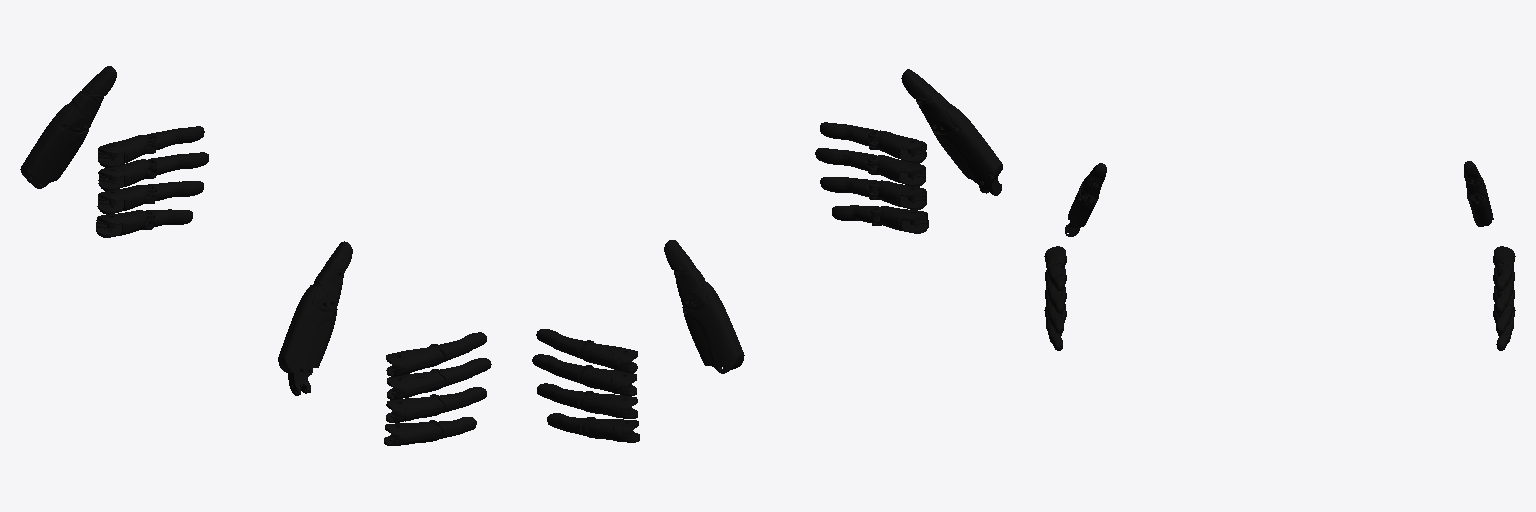
--- What the picture shows (computed from the rendered views, not written in the file) ---
The picture shows the robot from 3 angles, left to right: view 1: azimuth 30°, elevation 25°; view 2: azimuth 150°, elevation 25°; view 3: azimuth 270°, elevation 25°; orthographic projection.
Model h1 with 53 links and 52 joints (39 revolute, 13 fixed), rooted at pelvis, posed all joints at 0.
Visible links, largest first — view 1: R_thumb_proximal, L_thumb_proximal, R_index_proximal, R_middle_proximal, L_index_proximal, R_ring_proximal, L_middle_proximal, L_ring_proximal, R_pinky_proximal, L_pinky_proximal, R_thumb_intermediate, L_thumb_intermediate (+10 smaller); view 2: L_thumb_proximal, R_thumb_proximal, L_index_proximal, L_middle_proximal, R_index_proximal, L_ring_proximal, R_middle_proximal, L_pinky_proximal, R_ring_proximal, R_pinky_proximal, L_thumb_intermediate, R_thumb_intermediate (+10 smaller); view 3: R_thumb_proximal, L_thumb_proximal.
Boxes of the visible links, box(x1,y1,x2,y2) form: R_thumb_proximal: box(278, 285, 337, 375); L_thumb_proximal: box(20, 104, 88, 188); R_index_proximal: box(386, 344, 444, 376); R_middle_proximal: box(387, 369, 444, 399); L_index_proximal: box(98, 135, 155, 167); R_ring_proximal: box(386, 394, 443, 422); L_middle_proximal: box(98, 159, 155, 190); L_ring_proximal: box(97, 185, 155, 214); R_pinky_proximal: box(384, 420, 441, 445); L_pinky_proximal: box(96, 210, 153, 237); R_thumb_intermediate: box(312, 269, 343, 311); L_thumb_intermediate: box(67, 88, 103, 132); L_thumb_proximal: box(682, 282, 744, 373); R_thumb_proximal: box(932, 104, 1002, 186); L_index_proximal: box(579, 340, 637, 372); L_middle_proximal: box(579, 365, 636, 395); R_index_proximal: box(869, 130, 926, 163); L_ring_proximal: box(580, 391, 637, 418); R_middle_proximal: box(868, 155, 925, 186); L_pinky_proximal: box(582, 417, 639, 442); R_ring_proximal: box(869, 180, 926, 209); R_pinky_proximal: box(870, 206, 928, 233); L_thumb_intermediate: box(674, 266, 706, 309); R_thumb_intermediate: box(916, 90, 953, 133); R_thumb_proximal: box(1068, 176, 1098, 226); L_thumb_proximal: box(1467, 178, 1493, 226).
Size in the robot's own frame: 0.169 by 0.4501 by 0.1603 metres.
23 mesh visuals loaded from 42 distinct referenced files (23 binary STL); not drawn: 20 (reference not matched to a file when rendering).

URDF robot description (h1):
<robot
  name="h1">

  <mujoco>
    <compiler meshdir="../meshes" discardvisual="false" />
  </mujoco>


  <!-- [CAUTION] uncomment when convert to mujoco -->
  <!-- <link name="world"></link>
  <joint name="floating_base_joint" type="floating">
    <parent link="world" />
    <child link="pelvis" />
  </joint> -->

  <link
    name="pelvis">
    <inertial>
      <origin
        xyz="-0.0002 4E-05 -0.04522"
        rpy="0 0 0" />
      <mass
        value="5.39" />
      <inertia
        ixx="0.044582"
        ixy="8.7034E-05"
        ixz="-1.9893E-05"
        iyy="0.0082464"
        iyz="4.021E-06"
        izz="0.049021" />
    </inertial>
    <visual>
      <origin
        xyz="0 0 0"
        rpy="0 0 0" />
      <geometry>
        <mesh
          filename="../meshes/pelvis.STL" />
      </geometry>
      <material
        name="">
        <color
          rgba="0.1 0.1 0.1 1" />
      </material>
    </visual>
    <collision>
      <origin xyz="0 0 0" rpy="0 0 0" />
      <geometry>
        <sphere radius="0.05"/>
      </geometry>
    </collision>
  </link>
  
  <!--  -->
  <!--  -->
  <!--  -->
  <link
    name="torso_link">
    <inertial>
      <origin
        xyz="0.000489 0.002797 0.20484"
        rpy="0 0 0" />
      <mass
        value="17.789" />
      <inertia
        ixx="0.4873"
        ixy="-0.00053763"
        ixz="0.0020276"
        iyy="0.40963"
        iyz="-0.00074582"
        izz="0.12785" />
    </inertial>
    <visual>
      <origin
        xyz="0 0 0"
        rpy="0 0 0" />
      <geometry>
        <mesh
          filename="../meshes/torso_link.STL" />
      </geometry>
      <material
        name="">
        <color
          rgba="0.1 0.1 0.1 1" />
      </material>
    </visual>
    <collision>
      <origin xyz="0 0 0.15" rpy="0 0 0" />
      <geometry>
        <box size="0.08 0.16 0.1"/>
      </geometry>
    </collision>
  </link>
  <joint
    name="torso_joint"
    type="revolute">
    <origin
      xyz="0 0 0"
      rpy="0 0 0" />
    <parent
      link="pelvis" />
    <child
      link="torso_link" />
    <axis
      xyz="0 0 1" />
    <limit
      lower="-2.35"
      upper="2.35"
      effort="200"
      velocity="23" />
  </joint>
  <link
    name="left_shoulder_pitch_link">
    <inertial>
      <origin
        xyz="0.005045 0.053657 -0.015715"
        rpy="0 0 0" />
      <mass
        value="1.033" />
      <inertia
        ixx="0.0012985"
        ixy="-1.7333E-05"
        ixz="8.683E-06"
        iyy="0.00087279"
        iyz="3.9656E-05"
        izz="0.00097338" />
    </inertial>
    <visual>
      <origin
        xyz="0 0 0"
        rpy="0 0 0" />
      <geometry>
        <mesh
          filename="../meshes/left_shoulder_pitch_link.STL" />
      </geometry>
      <material
        name="">
        <color
          rgba="0.1 0.1 0.1 1" />
      </material>
    </visual>
    <collision>
      <origin xyz="0 -0.05  0" rpy="1.5707963267948966192313216916398 0 0" />
      <geometry>
        <cylinder radius="0.03" length="0.04"/>
      </geometry>
    </collision>
  </link>
  <joint
    name="left_shoulder_pitch_joint"
    type="revolute">
    <origin
      xyz="0.0055 0.15535 0.42999"
      rpy="0.43633 0 0" />
    <parent
      link="torso_link" />
    <child
      link="left_shoulder_pitch_link" />
    <axis
      xyz="0 1 0" />
    <limit
      lower="-2.44"
      upper="1.44"
      effort="40"
      velocity="9" />
  </joint>
  <link
    name="left_shoulder_roll_link">
    <inertial>
      <origin
        xyz="0.000679 0.00115 -0.094076"
        rpy="0 0 0" />
      <mass
        value="0.793" />
      <inertia
        ixx="0.0015742"
        ixy="2.298E-06"
        ixz="-7.2265E-05"
        iyy="0.0016973"
        iyz="-6.3691E-05"
        izz="0.0010183" />
    </inertial>
    <visual>
      <origin
        xyz="0 0 0"
        rpy="0 0 0" />
      <geometry>
        <mesh
          filename="../meshes/left_shoulder_roll_link.STL" />
      </geometry>
      <material
        name="">
        <color
          rgba="0.1 0.1 0.1 1" />
      </material>
    </visual>
    <collision>
      <origin xyz="0 0 -0.04" rpy="0 0 0" />
      <geometry>
        <cylinder radius="0.04" length="0.01"/>
      </geometry>
    </collision>
  </link>
  <joint
    name="left_shoulder_roll_joint"
    type="revolute">
    <origin
      xyz="-0.0055 0.0565 -0.0165"
      rpy="-0.43633 0 0" />
    <parent
      link="left_shoulder_pitch_link" />
    <child
      link="left_shoulder_roll_link" />
    <axis
      xyz="1 0 0" />
    <limit
      lower="-0.17"
      upper="3.11"
      effort="40"
      velocity="9" />
  </joint>
  <link
    name="left_shoulder_yaw_link">
    <inertial>
      <origin
        xyz="0.01365 0.002767 -0.16266"
        rpy="0 0 0" />
      <mass
        value="0.839" />
      <inertia
        ixx="0.003664"
        ixy="-1.0671E-05"
        ixz="0.00034733"
        iyy="0.0040789"
        iyz="7.0213E-05"
        izz="0.00066383" />
    </inertial>
    <visual>
      <origin
        xyz="0 0 0"
        rpy="0 0 0" />
      <geometry>
        <mesh
          filename="../meshes/left_shoulder_yaw_link.STL" />
      </geometry>
      <material
        name="">
        <color
          rgba="0.1 0.1 0.1 1" />
      </material>
    </visual>
    <collision>
      <origin xyz="0 0 -0.11" rpy="0 0 0" />
      <geometry>
        <cylinder radius="0.04" length="0.01"/>
      </geometry>
    </collision>
  </link>
  <joint
    name="left_shoulder_yaw_joint"
    type="revolute">
    <origin
      xyz="0 0 -0.1343"
      rpy="0 0 0" />
    <parent
      link="left_shoulder_roll_link" />
    <child
      link="left_shoulder_yaw_link" />
    <axis
      xyz="0 0 1" />
    <limit
      lower="-1.3"
      upper="1.3"
      effort="18"
      velocity="20" />
  </joint>
  <link
    name="left_elbow_pitch_link">
    <inertial>
      <origin
        xyz="0.075854 0.0002 -0.013485"
        rpy="0 0 0" />
      <mass
        value="0.676" />
      <inertia
        ixx="0.000314529"
        ixy="-0.000011375"
        ixz="0.000084762"
        iyy="0.000890865"
        iyz="0.000000578"
        izz="0.000906729" />
    </inertial>
    <visual>
      <origin
        xyz="0 0 0"
        rpy="0 0 0" />
      <geometry>
        <mesh
          filename="../meshes/left_elbow_pitch_link.STL" />
      </geometry>
      <material
        name="">
        <color
          rgba="0.1 0.1 0.1 1" />
      </material>
    </visual>
    <collision>
      <geometry>
        <mesh
          filename="../meshes/left_elbow_pitch_link.STL" />
      </geometry>
    </collision>
  </link>
  <joint
    name="left_elbow_pitch_joint"
    type="revolute">
    <origin
      xyz="0.0185 0 -0.198"
      rpy="0 0 0" />
    <parent
      link="left_shoulder_yaw_link" />
    <child
      link="left_elbow_pitch_link" />
    <axis
      xyz="0 1 0" />
    <limit
      lower="-1.25"
      upper="1.57"
      effort="18"
      velocity="20" />
  </joint>
  <!--  -->
  <link
    name="left_elbow_roll_link">
    <inertial>
      <origin
        xyz="0.035281 -0.002320 0.000337"
        rpy="0 0 0" />
      <mass
        value="0.683" />
      <inertia
        ixx="0.000313275"
        ixy="0.000016521"
        ixz="-0.000002501"
        iyy="0.000310412"
        iyz="0.000005435"
        izz="0.000345998" />
    </inertial>
    <visual>
      <origin
        xyz="0 0 0"
        rpy="0 0 0" />
      <geometry>
        <mesh
          filename="../meshes/left_elbow_roll_link.STL" />
      </geometry>
      <material
        name="">
        <color
          rgba="0.1 0.1 0.1 1" />
      </material>
    </visual>
    <collision>
      <geometry>
        <mesh
          filename="../meshes/left_elbow_roll_link.STL" />
      </geometry>
    </collision>
  </link>
  <joint
    name="left_elbow_roll_joint"
    type="revolute">
    <origin
      xyz="0.121 0 -0.015"
      rpy="0 0 0" />
    <parent
      link="left_elbow_pitch_link" />
    <child
      link="left_elbow_roll_link" />
    <axis
      xyz="1 0 0" />
    <limit
      lower="-1.57"
      upper="1.57"
      effort="19"
      velocity="31.4" />
  </joint>

  <link
    name="left_wrist_pitch_link">
    <inertial>
      <origin
        xyz="0.020395 0.000036 -0.002973"
        rpy="0 0 0" />
      <mass
        value="0.484" />
      <inertia
        ixx="0.000071364"
        ixy="0.000000308"
        ixz="0.000001485"
        iyy="0.000069915"
        iyz="-0.000000088"
        izz="0.000070702" />
    </inertial>
    <visual>
      <origin
        xyz="0 0 0"
        rpy="0 0 0" />
      <geometry>
        <mesh
          filename="../meshes/left_wrist_pitch_link.STL" />
      </geometry>
      <material
        name="">
        <color
          rgba="0.1 0.1 0.1 1" />
      </material>
    </visual>
    <collision>
      <geometry>
        <mesh
          filename="../meshes/left_wrist_pitch_link.STL" />
      </geometry>
    </collision>
  </link>
  <joint
    name="left_wrist_pitch_joint"
    type="revolute">
    <origin
      xyz="0.085 0 0"
      rpy="0 0 0" />
    <parent
      link="left_elbow_roll_link" />
    <child
      link="left_wrist_pitch_link" />
    <axis
      xyz="0 1 0" />
    <limit
      lower="-0.471"
      upper="0.349"
      effort="19"
      velocity="31.4" />
  </joint>
  <!--  -->
  <link
    name="left_wrist_yaw_link">
    <inertial>
      <origin
        xyz="0.026090 0 0"
        rpy="0 0 0" />
      <mass
        value="0.086" />
      <inertia
        ixx="0.000073879"
        ixy="0"
        ixz="0"
        iyy="0.000068528"
        iyz="0"
        izz="0.000041945" />
    </inertial>
    <visual>
      <origin
        xyz="0 0 0"
        rpy="0 0 0" />
      <geometry>
        <mesh
          filename="../meshes/wrist_yaw_link.STL" />
      </geometry>
      <material
        name="">
        <color
          rgba="0.1 0.1 0.1 1" />
      </material>
    </visual>
    <collision>
      <origin
        xyz="0 0 0"
        rpy="0 0 0" />
      <geometry>
        <mesh
          filename="../meshes/wrist_yaw_link.STL" />
      </geometry>
    </collision>
  </link>
  <joint
    name="left_wrist_yaw_joint"
    type="revolute">
    <origin
      xyz="0.020 0 0"
      rpy="0 0 0" />
    <parent
      link="left_wrist_pitch_link" />
    <child
      link="left_wrist_yaw_link" />
    <axis
      xyz="0 0 1" />
    <limit
      lower="-1.012"
      upper="1.012"
      effort="19"
      velocity="31.4" />
  </joint>
    <joint 
      name="L_base_link_joint" 
      type="fixed">
      <origin
      xyz="0.0365 0 0"
      rpy="0 0 1.5707963267948966192313216916398" />
      <parent link="left_wrist_yaw_link"/>
      <child link="L_hand_base_link"/>
    </joint>

    <link name="L_hand_base_link">
      <inertial>
        <origin
          xyz="-0.002551 -0.066047 -0.0019357"
          rpy="0 0 0" />
        <mass
          value="0.14143" />
        <inertia
          ixx="0.0001234"
          ixy="2.1995E-06"
          ixz="-1.7694E-06"
          iyy="8.3835E-05"
          iyz="1.5968E-06"
          izz="7.7231E-05" />
      </inertial>
      <visual>
        <origin
          xyz="0 0 0"
          rpy="0 0 0" />
        <geometry>
          <mesh filename="../meshes/L_hand_base_link.STL" />
        </geometry>
        <material name="">
          <color rgba="0.1 0.1 0.1 1" />
        </material>
      </visual>
      <collision>
      <origin xyz="0 -0.0136 0" rpy="1.57079 0 0"/>
      <geometry>
        <cylinder length="0.0278" radius="0.028"/>
      </geometry>
    </collision>
    <collision>
      <origin xyz="-0.0032 -0.038 0" rpy="0 0 0"/>
      <geometry>
        <box size="0.0391 0.0202 0.0574"/>
      </geometry>
    </collision>
    <collision>
      <origin xyz="-0.0032 -0.0682 0" rpy="0 0 0"/>
      <geometry>
        <box size="0.0391 0.04 0.0814"/>
      </geometry>
    </collision>
    <collision>
      <origin xyz="0 -0.1081 0" rpy="0 0 0"/>
      <geometry>
        <box size="0.0322 0.04 0.0814"/>
      </geometry>
    </collision>
    <collision>
      <origin xyz="-0.0016 -0.1340 -0.0309" rpy="0 0 0"/>
      <geometry>
        <box size="0.0125 0.0111 0.0089"/>
      </geometry>
    </collision>
    <collision>
      <origin xyz="-0.0016 -0.1340 -0.0118" rpy="0 0 0"/>
      <geometry>
        <box size="0.0125 0.0111 0.0089"/>
      </geometry>
    </collision>
    <collision>
      <origin xyz="-0.0016 -0.1340 0.0070" rpy="0 0 0"/>
      <geometry>
        <box size="0.0125 0.0111 0.0089"/>
      </geometry>
    </collision>
    <collision>
      <origin xyz="-0.0016 -0.1340 0.0262" rpy="0 0 0"/>
      <geometry>
        <box size="0.0125 0.0111 0.0089"/>
      </geometry>
    </collision>
    </link>

    <link name="L_thumb_proximal_base">
      <inertial>
        <origin
          xyz="0.0048817 0.00038782 -0.00722"
          rpy="0 0 0" />
        <mass
          value="0.0018869" />
        <inertia
          ixx="5.5158E-08"
          ixy="-1.1803E-08"
          ixz="-4.6743E-09"
          iyy="8.2164E-08"
          iyz="-1.3521E-09"
          izz="6.7434E-08" />
      </inertial>
      <visual>
        <origin
          xyz="0 0 0"
          rpy="0 0 0" />
        <geometry>
          <mesh filename="../meshes/simplified4x/Link11_L.STL" />
        </geometry>
        <material name="">
          <color rgba="0.1 0.1 0.1 1" />
        </material>
      </visual>
      <collision>
      <origin xyz="0 0 0" rpy="0 0 0"/>
      <geometry>
        <mesh filename="../meshes/collision/left_thumb_proximal_base.obj"/>
      </geometry>
    </collision>
    </link>

    <joint
      name="L_thumb_proximal_yaw_joint"
      type="revolute">
      <origin
        xyz="-0.01696 -0.0691 0.02045"
        rpy="1.5708 -1.5708 0" />
      <parent
        link="L_hand_base_link" />
      <child
        link="L_thumb_proximal_base" />
      <axis
        xyz="0 0 1" />
      <limit
        lower="-0.1"
        upper="1.3"
        effort="1"
        velocity="0.5" />
    </joint>

    <link name="L_thumb_proximal">
      <inertial>
        <origin
          xyz="0.021936 -0.01279 -0.0080386"
          rpy="0 0 0" />
        <mass
          value="0.0066101" />
        <inertia
          ixx="1.5693E-06"
          ixy="7.8339E-07"
          ixz="8.5959E-10"
          iyy="1.7356E-06"
          iyz="1.0378E-09"
          izz="2.787E-06" />
      </inertial>
      <visual>
        <origin
          xyz="0 0 0"
          rpy="0 0 0" />
        <geometry>
          <mesh filename="../meshes/simplified4x/Link12_L.STL" />
        </geometry>
        <material name="">
          <color rgba="0.1 0.1 0.1 1" />
        </material>
      </visual>
      <collision>
      <origin xyz="0 0 0" rpy="0 0 0"/>
      <geometry>
        <mesh filename="../meshes/collision/left_thumb_proximal.obj"/>
      </geometry>
    </collision>
    </link>

    <joint
      name="L_thumb_proximal_pitch_joint"
      type="revolute">
      <origin
        xyz="0.0099867 0.0098242 -0.0089"
        rpy="-1.5708 0 0.16939" />
      <parent
        link="L_thumb_proximal_base" />
      <child
        link="L_thumb_proximal" />
      <axis
        xyz="0 0 -1" />
      <limit
        lower="0.0"
        upper="0.5"
        effort="1"
        velocity="0.5" />
    </joint>

    <link name="L_thumb_intermediate">
      <inertial>
        <origin
          xyz="0.0095531 0.0016282 -0.0072002"
          rpy="0 0 0" />
        <mass
          value="0.0037844" />
        <inertia
          ixx="3.6981E-07"
          ixy="9.8603E-08"
          ixz="-2.8173E-12"
          iyy="3.2395E-07"
          iyz="-2.8028E-12"
          izz="4.6532E-07" />
      </inertial>
      <visual>
        <origin
          xyz="0 0 0"
          rpy="0 0 0" />
        <geometry>
          <mesh filename="../meshes/simplified4x/Link13_L.STL" />
        </geometry>
        <material name="">
          <color rgba="0.1 0.1 0.1 1" />
        </material>
      </visual>
      <collision>
      <origin xyz="0 0 0" rpy="0 0 0"/>
      <geometry>
        <mesh filename="../meshes/collision/left_thumb_intermediate.obj"/>
      </geometry>
    </collision>
    </link>

    <joint
      name="L_thumb_intermediate_joint"
      type="revolute">
      <origin
        xyz="0.04407 -0.034553 -0.0008"
        rpy="0 0 0" />
      <parent
        link="L_thumb_proximal" />
      <child
        link="L_thumb_intermediate" />
      <axis
        xyz="0 0 -1" />
      <limit
        lower="0"
        upper="0.8"
        effort="1"
        velocity="0.5" />
      <mimic 
        joint="L_thumb_proximal_pitch_joint"
        multiplier="1.6"
        offset="0" />
    </joint>

    <link name="L_thumb_distal">
      <inertial>
        <origin
          xyz="0.0092888 -0.004953 -0.0060033"
          rpy="0 0 0" />
        <mass
          value="0.003344" />
        <inertia
          ixx="1.3632E-07"
          ixy="5.6787E-08"
          ixz="-9.1939E-11"
          iyy="1.4052E-07"
          iyz="1.2145E-10"
          izz="2.0026E-07" />
      </inertial>
      <visual>
        <origin
          xyz="0 0 0"
          rpy="0 0 0" />
        <geometry>
          <mesh filename="../meshes/simplified4x/Link14_L.STL" />
        </geometry>
        <material name="">
          <color rgba="0.1 0.1 0.1 1" />
        </material>
      </visual>
      <collision>
      <origin xyz="0 0 0" rpy="0 0 0"/>
      <geometry>
        <mesh filename="../meshes/collision/left_thumb_distal.obj" scale="1 1 1"/>
      </geometry>
    </collision>
    </link>

    <joint
      name="L_thumb_distal_joint"
      type="revolute">
      <origin
        xyz="0.020248 -0.010156 -0.0012"
        rpy="0 0 0" />
      <parent
        link="L_thumb_intermediate" />
      <child
        link="L_thumb_distal" />
      <axis
        xyz="0 0 -1" />
      <limit
        lower="0"
        upper="1.2"
        effort="1"
        velocity="0.5" />
      <mimic 
        joint="L_thumb_proximal_pitch_joint"
        multiplier="2.4"
        offset="0" />
    </joint>

    <link name="L_index_proximal">
      <inertial>
        <origin
          xyz="0.0012971 -0.011934 -0.0059998"
          rpy="0 0 0" />
        <mass
          value="0.0042405" />
        <inertia
          ixx="6.6215E-07"
          ixy="1.8442E-08"
          ixz="1.3746E-12"
          iyy="2.1167E-07"
          iyz="-1.4773E-11"
          izz="6.9402E-07" />
      </inertial>
      <visual>
        <origin
          xyz="0 0 0"
          rpy="0 0 0" />
        <geometry>
          <mesh filename="../meshes/simplified4x/Link15_L.STL" />
        </geometry>
        <material name="">
          <color rgba="0.1 0.1 0.1 1" />
        </material>
      </visual>
      <collision>
      <origin xyz="0 0 0" rpy="0 0 0"/>
      <geometry>
        <mesh filename="../meshes/collision/left_index_proximal.obj"/>
      </geometry>
    </collision>
    </link>

    <joint
      name="L_index_proximal_joint"
      type="revolute">
      <origin
        xyz="0.00028533 -0.13653 0.032268"
        rpy="-0.034907 0 0" />
      <parent
        link="L_hand_base_link" />
      <child
        link="L_index_proximal" />
      <axis
        xyz="0 0 -1" />
      <limit
        lower="0"
        upper="1.7"
        effort="1"
        velocity="0.5" />
    </joint>

    <link name="L_index_intermediate">
      <inertial>
        <origin
          xyz="0.0021753 -0.019567 -0.005"
          rpy="0 0 0" />
        <mass
          value="0.0045682" />
        <inertia
          ixx="7.6284E-07"
          ixy="-8.063E-08"
          ixz="3.6797E-13"
          iyy="9.4308E-08"
          iyz="1.5743E-13"
          izz="7.8176E-07" />
      </inertial>
      <visual>
        <origin
          xyz="0 0 0"
          rpy="0 0 0" />
        <geometry>
          <mesh filename="../meshes/simplified4x/Link16_L.STL" />
        </geometry>
        <material name="">
          <color rgba="0.1 0.1 0.1 1" />
        </material>
      </visual>
      <collision>
      <origin xyz="0 0 0" rpy="0 0 0"/>
      <geometry>
        <mesh filename="../meshes/collision/left_index_intermediate.obj"/>
      </geometry>
    </collision>
    </link>

    <joint
      name="L_index_intermediate_joint"
      type="revolute">
      <origin
        xyz="-0.0024229 -0.032041 -0.001"
        rpy="0 0 0" />
      <parent
        link="L_index_proximal" />
      <child
        link="L_index_intermediate" />
      <axis
        xyz="0 0 -1" />
      <limit
        lower="0"
        upper="1.7"
        effort="1"
        velocity="0.5" />
      <mimic 
        joint="L_index_proximal_joint"
        multiplier="1"
        offset="0" />
    </joint>

    <link name="L_middle_proximal">
      <inertial>
        <origin
          xyz="0.0012971 -0.011934 -0.0059999"
          rpy="0 0 0" />
        <mass
          value="0.0042405" />
        <inertia
          ixx="6.6215E-07"
          ixy="1.8442E-08"
          ixz="1.2299E-12"
          iyy="2.1167E-07"
          iyz="-1.4484E-11"
          izz="6.9402E-07" />
      </inertial>
      <visual>
        <origin
          xyz="0 0 0"
          rpy="0 0 0" />
        <geometry>
          <mesh filename="../meshes/simplified4x/Link17_L.STL" />
        </geometry>
        <material name="">
          <color rgba="0.1 0.1 0.1 1" />
        </material>
      </visual>
      <collision>
      <origin xyz="0 0 0" rpy="0 0 0"/>
      <geometry>
        <mesh filename="../meshes/collision/left_index_proximal.obj"/>
      </geometry>
    </collision>
    </link>

    <joint
      name="L_middle_proximal_joint"
      type="revolute">
      <origin
        xyz="0.00028533 -0.1371 0.01295"
        rpy="0 0 0" />
      <parent
        link="L_hand_base_link" />
      <child
        link="L_middle_proximal" />
      <axis
        xyz="0 0 -1" />
      <limit
        lower="0"
        upper="1.7"
        effort="1"
        velocity="0.5" />
    </joint>

    <link name="L_middle_intermediate">
      <inertial>
        <origin
          xyz="0.001921 -0.020796 -0.0049999"
          rpy="0 0 0" />
        <mass
          value="0.0050397" />
        <inertia
          ixx="9.5823E-07"
          ixy="-1.1425E-07"
          ixz="-2.4186E-12"
          iyy="1.0646E-07"
          iyz="3.6974E-12"
          izz="9.8385E-07" />
      </inertial>
      <visual>
        <origin
          xyz="0 0 0"
          rpy="0 0 0" />
        <geometry>
          <mesh filename="../meshes/simplified4x/Link18_L.STL" />
        </geometry>
        <material name="">
          <color rgba="0.1 0.1 0.1 1" />
        </material>
      </visual>
      <collision>
      <origin xyz="0 0 0" rpy="0 0 0"/>
      <geometry>
        <mesh filename="../meshes/collision/left_middle_intermediate.obj"/>
      </geometry>
    </collision>
    </link>
    
    <joint
      name="L_middle_intermediate_joint"
      type="revolute">
      <origin
        xyz="-0.0024229 -0.032041 -0.001"
        rpy="0 0 0" />
      <parent
        link="L_middle_proximal" />
      <child
        link="L_middle_intermediate" />
      <axis
        xyz="0 0 -1" />
      <limit
        lower="0"
        upper="1.7"
        effort="1"
        velocity="0.5" />
      <mimic 
        joint="L_middle_proximal_joint"
        multiplier="1"
        offset="0" />
    </joint>

    <link name="L_ring_proximal">
      <inertial>
        <origin
          xyz="0.0012971 -0.011934 -0.0059999"
          rpy="0 0 0" />
        <mass
          value="0.0042405" />
        <inertia
          ixx="6.6215E-07"
          ixy="1.8442E-08"
          ixz="9.6052E-13"
          iyy="2.1167E-07"
          iyz="-1.4124E-11"
          izz="6.9402E-07" />
      </inertial>
      <visual>
        <origin
          xyz="0 0 0"
          rpy="0 0 0" />
        <geometry>
          <mesh filename="../meshes/simplified4x/Link19_L.STL" />
        </geometry>
        <material name="">
          <color rgba="0.1 0.1 0.1 1" />
        </material>
      </visual>
     <collision>
      <origin xyz="0 0 0" rpy="0 0 0"/>
      <geometry>
        <mesh filename="../meshes/collision/left_index_proximal.obj"/>
      </geometry>
    </collision>
    </link>

    <joint
      name="L_ring_proximal_joint"
      type="revolute">
      <origin
        xyz="0.00028533 -0.13691 -0.0062872"
        rpy="0.05236 0 0" />
      <parent
        link="L_hand_base_link" />
      <child
        link="L_ring_proximal" />
      <axis
        xyz="0 0 -1" />
      <limit
        lower="0"
        upper="1.7"
        effort="1"
        velocity="0.5" />
    </joint>

    <link name="L_ring_intermediate">
      <inertial>
        <origin
          xyz="0.0021753 -0.019567 -0.005"
          rpy="0 0 0" />
        <mass
          value="0.0045682" />
        <inertia
          ixx="7.6285E-07"
          ixy="-8.0631E-08"
          ixz="3.3472E-14"
          iyy="9.4308E-08"
          iyz="-4.4773E-13"
          izz="7.8176E-07" />
      </inertial>
      <visual>
        <origin
          xyz="0 0 0"
          rpy="0 0 0" />
        <geometry>
          <mesh filename="../meshes/simplified4x/Link20_L.STL" />
        </geometry>
        <material name="">
          <color rgba="0.1 0.1 0.1 1" />
        </material>
      </visual>
      <collision>
      <origin xyz="0 0 0" rpy="0 0 0"/>
      <geometry>
        <mesh filename="../meshes/collision/left_index_intermediate.obj"/>
      </geometry>
    </collision>
    </link>

    <joint
      name="L_ring_intermediate_joint"
      type="revolute">
      <origin
        xyz="-0.0024229 -0.032041 -0.001"
        rpy="0 0 0" />
      <parent
        link="L_ring_proximal" />
      <child
        link="L_ring_intermediate" />
      <axis
        xyz="0 0 -1" />
      <limit
        lower="0"
        upper="1.7"
        effort="1"
        velocity="0.5" />
      <mimic 
        joint="L_ring_proximal_joint"
        multiplier="1"
        offset="0" />
    </joint>

    <link name="L_pinky_proximal">
      <inertial>
        <origin
          xyz="0.0012971 -0.011934 -0.0059999"
          rpy="0 0 0" />
        <mass
          value="0.0042405" />
        <inertia
          ixx="6.6215E-07"
          ixy="1.8442E-08"
          ixz="1.0279E-12"
          iyy="2.1167E-07"
          iyz="-1.4277E-11"
          izz="6.9402E-07" />
      </inertial>
      <visual>
        <origin
          xyz="0 0 0"
          rpy="0 0 0" />
        <geometry>
          <mesh filename="../meshes/simplified4x/Link21_L.STL" />
        </geometry>
        <material name="">
          <color rgba="0.1 0.1 0.1 1" />
        </material>
      </visual>
      <collision>
      <origin xyz="0 0 0" rpy="0 0 0"/>
      <geometry>
        <mesh filename="../meshes/collision/left_index_proximal.obj"/>
      </geometry>
    </collision>
    </link>

    <joint
      name="L_pinky_proximal_joint"
      type="revolute">
      <origin
        xyz="0.00028533 -0.13571 -0.025488"
        rpy="0.10472 0 0" />
      <parent
        link="L_hand_base_link" />
      <child
        link="L_pinky_proximal" />
      <axis
        xyz="0 0 -1" />
      <limit
        lower="0"
        upper="1.7"
        effort="1"
        velocity="0.5" />
    </joint>

    <link name="L_pinky_intermediate">
      <inertial>
        <origin
          xyz="0.0024788 -0.016208 -0.0050001"
          rpy="0 0 0" />
        <mass
          value="0.0036036" />
        <inertia
          ixx="4.3923E-07"
          ixy="-4.1355E-08"
          ixz="1.2263E-12"
          iyy="7.0315E-08"
          iyz="3.1311E-12"
          izz="4.4881E-07" />
      </inertial>
      <visual>
        <origin
          xyz="0 0 0"
          rpy="0 0 0" />
        <geometry>
          <mesh filename="../meshes/simplified4x/Link22_L.STL" />
        </geometry>
        <material name="">
          <color rgba="0.1 0.1 0.1 1" />
        </material>
      </visual>
      <collision>
      <origin xyz="0 0 0" rpy="0 0 0"/>
      <geometry>
        <mesh filename="../meshes/collision/left_pinky_intermediate.obj"/>
      </geometry>
    </collision>
    </link>

    <joint
      name="L_pinky_intermediate_joint"
      type="revolute">
      <origin
        xyz="-0.0024229 -0.032041 -0.001"
        rpy="0 0 0" />
      <parent
        link="L_pinky_proximal" />
      <child
        link="L_pinky_intermediate" />
      <axis
        xyz="0 0 -1" />
      <limit
        lower="0"
        upper="1.7"
        effort="1"
        velocity="0.5" />
      <mimic 
        joint="L_pinky_proximal_joint"
        multiplier="1"
        offset="0" />
    </joint>
  <link
    name="right_shoulder_pitch_link">
    <inertial>
      <origin
        xyz="0.005045 -0.053657 -0.015715"
        rpy="0 0 0" />
      <mass
        value="1.033" />
      <inertia
        ixx="0.0012985"
        ixy="1.7333E-05"
        ixz="8.683E-06"
        iyy="0.00087279"
        iyz="-3.9656E-05"
        izz="0.00097338" />
    </inertial>
    <visual>
      <origin
        xyz="0 0 0"
        rpy="0 0 0" />
      <geometry>
        <mesh
          filename="../meshes/right_shoulder_pitch_link.STL" />
      </geometry>
      <material
        name="">
        <color
          rgba="0.1 0.1 0.1 1" />
      </material>
    </visual>
    <collision>
      <origin xyz="0 0.05  0" rpy="-1.5707963267948966192313216916398 0 0" />
      <geometry>
        <cylinder radius="0.03" length="0.04"/>
      </geometry>
    </collision>
  </link>
  <joint
    name="right_shoulder_pitch_joint"
    type="revolute">
    <origin
      xyz="0.0055 -0.15535 0.42999"
      rpy="-0.43633 0 0" />
    <parent
      link="torso_link" />
    <child
      link="right_shoulder_pitch_link" />
    <axis
      xyz="0 1 0" />
    <limit
      lower="-2.44"
      upper="1.44"
      effort="40"
      velocity="9" />
  </joint>
  <link
    name="right_shoulder_roll_link">
    <inertial>
      <origin
        xyz="0.000679 -0.00115 -0.094076"
        rpy="0 0 0" />
      <mass
        value="0.793" />
      <inertia
        ixx="0.0015742"
        ixy="-2.298E-06"
        ixz="-7.2265E-05"
        iyy="0.0016973"
        iyz="6.3691E-05"
        izz="0.0010183" />
    </inertial>
    <visual>
      <origin
        xyz="0 0 0"
        rpy="0 0 0" />
      <geometry>
        <mesh
          filename="../meshes/right_shoulder_roll_link.STL" />
      </geometry>
      <material
        name="">
        <color
          rgba="0.1 0.1 0.1 1" />
      </material>
    </visual>
    <collision>
      <origin xyz="0 0 -0.04" rpy="0 0 0" />
      <geometry>
        <cylinder radius="0.04" length="0.01"/>
      </geometry>
    </collision>
  </link>
  <joint
    name="right_shoulder_roll_joint"
    type="revolute">
    <origin
      xyz="-0.0055 -0.0565 -0.0165"
      rpy="0.43633 0 0" />
    <parent
      link="right_shoulder_pitch_link" />
    <child
      link="right_shoulder_roll_link" />
    <axis
      xyz="1 0 0" />
    <limit
      lower="-3.11"
      upper="0.17"
      effort="40"
      velocity="9" />
  </joint>
  <link
    name="right_shoulder_yaw_link">
    <inertial>
      <origin
        xyz="0.01365 -0.002767 -0.16266"
        rpy="0 0 0" />
      <mass
        value="0.839" />
      <inertia
        ixx="0.003664"
        ixy="1.0671E-05"
        ixz="0.00034733"
        iyy="0.0040789"
        iyz="-7.0213E-05"
        izz="0.00066383" />
    </inertial>
    <visual>
      <origin
        xyz="0 0 0"
        rpy="0 0 0" />
      <geometry>
        <mesh
          filename="../meshes/right_shoulder_yaw_link.STL" />
      </geometry>
      <material
        name="">
        <color
          rgba="0.1 0.1 0.1 1" />
      </material>
    </visual>
    <collision>
      <origin xyz="0 0 -0.11" rpy="0 0 0" />
      <geometry>
        <cylinder radius="0.04" length="0.01"/>
      </geometry>
    </collision>
  </link>
  <joint
    name="right_shoulder_yaw_joint"
    type="revolute">
    <origin
      xyz="0 0 -0.1343"
      rpy="0 0 0" />
    <parent
      link="right_shoulder_roll_link" />
    <child
      link="right_shoulder_yaw_link" />
    <axis
      xyz="0 0 1" />
    <limit
      lower="-1.3"
      upper="1.3"
      effort="18"
      velocity="20" />
  </joint>
  <link
    name="right_elbow_pitch_link">
    <inertial>
      <origin
        xyz="0.075854 0.0002 -0.013485"
        rpy="0 0 0" />
      <mass
        value="0.676" />
      <inertia
        ixx="0.000314529"
        ixy="-0.000011375"
        ixz="0.000084762"
        iyy="0.000890865"
        iyz="0.000000578"
        izz="0.000906729" />
    </inertial>
    <visual>
      <origin
        xyz="0 0 0"
        rpy="0 0 0" />
      <geometry>
        <mesh
          filename="../meshes/right_elbow_pitch_link.STL" />
      </geometry>
      <material
        name="">
        <color
          rgba="0.1 0.1 0.1 1" />
      </material>
    </visual>
    <collision>
      <geometry>
        <mesh
          filename="../meshes/right_elbow_pitch_link.STL" />
      </geometry>
    </collision>
  </link>
  <joint
    name="right_elbow_pitch_joint"
    type="revolute">
    <origin
      xyz="0.0185 0 -0.198"
      rpy="0 0 0" />
    <parent
      link="right_shoulder_yaw_link" />
    <child
      link="right_elbow_pitch_link" />
    <axis
      xyz="0 1 0" />
    <limit
      lower="-1.25"
      upper="1.57"
      effort="18"
      velocity="20" />
  </joint>
  <!--  -->
  <link
    name="right_elbow_roll_link">
    <inertial>
      <origin
        xyz="0.035281 -0.002320 0.000337"
        rpy="0 0 0" />
      <mass
        value="0.683" />
      <inertia
        ixx="0.000313275"
        ixy="0.000016521"
        ixz="-0.000002501"
        iyy="0.000310412"
        iyz="0.000005435"
        izz="0.000345998" />
    </inertial>
    <visual>
      <origin
        xyz="0 0 0"
        rpy="0 0 0" />
      <geometry>
        <mesh
          filename="../meshes/right_elbow_roll_link.STL" />
      </geometry>
      <material
        name="">
        <color
          rgba="0.1 0.1 0.1 1" />
      </material>
    </visual>
    <collision>
      <geometry>
        <mesh
          filename="../meshes/right_elbow_roll_link.STL" />
      </geometry>
    </collision>
  </link>
  <joint
    name="right_elbow_roll_joint"
    type="revolute">
    <origin
      xyz="0.121 0 -0.015"
      rpy="0 0 0" />
    <parent
      link="right_elbow_pitch_link" />
    <child
      link="right_elbow_roll_link" />
    <axis
      xyz="1 0 0" />
      <limit
      lower="-1.57"
      upper="1.57"
      effort="19"
      velocity="31.4" />
  </joint>

  <link
    name="right_wrist_pitch_link">
    <inertial>
      <origin
        xyz="0.020395 0.000036 -0.002973"
        rpy="0 0 0" />
      <mass
        value="0.484" />
      <inertia
        ixx="0.000071364"
        ixy="0.000000308"
        ixz="0.000001485"
        iyy="0.000069915"
        iyz="-0.000000088"
        izz="0.000070702" />
    </inertial>
    <visual>
      <origin
        xyz="0 0 0"
        rpy="0 0 0" />
      <geometry>
        <mesh
          filename="../meshes/right_wrist_pitch_link.STL" />
      </geometry>
      <material
        name="">
        <color
          rgba="0.1 0.1 0.1 1" />
      </material>
    </visual>
    <collision>
      <geometry>
        <mesh
          filename="../meshes/right_wrist_pitch_link.STL" />
      </geometry>
    </collision>
  </link>
  <joint
    name="right_wrist_pitch_joint"
    type="revolute">
    <origin
      xyz="0.085 0 0"
      rpy="0 0 0" />
    <parent
      link="right_elbow_roll_link" />
    <child
      link="right_wrist_pitch_link" />
    <axis
      xyz="0 1 0" />
      <limit
      lower="-0.471"
      upper="0.349"
      effort="19"
      velocity="31.4" />
  </joint>
  <!--  -->
  <link
    name="right_wrist_yaw_link">
    <inertial>
      <origin
        xyz="0.026090 0 0"
        rpy="0 0 0" />
      <mass
        value="0.086" />
      <inertia
        ixx="0.000073879"
        ixy="0"
        ixz="0"
        iyy="0.000068528"
        iyz="0"
        izz="0.000041945" />
    </inertial>
    <visual>
      <origin
        xyz="0 0 0"
        rpy="0 0 0" />
      <geometry>
        <mesh
          filename="../meshes/wrist_yaw_link.STL" />
      </geometry>
      <material
        name="">
        <color
          rgba="0.1 0.1 0.1 1" />
      </material>
    </visual>
    <collision>
      <origin
        xyz="0 0 0"
        rpy="0 0 0" />
      <geometry>
        <mesh
          filename="../meshes/wrist_yaw_link.STL" />
      </geometry>
    </collision>
  </link>
  <joint
    name="right_wrist_yaw_joint"
    type="revolute">
    <origin
      xyz="0.020 0 0"
      rpy="0 0 0" />
    <parent
      link="right_wrist_pitch_link" />
    <child
      link="right_wrist_yaw_link" />
    <axis
      xyz="0 0 1" />
    <limit
      lower="-1.012"
      upper="1.012"
      effort="19"
      velocity="31.4" />
  </joint>

    <joint 
      name="R_base_link_joint" 
      type="fixed">
      <origin
      xyz="0.0365 0 0"
      rpy="3.1415926535897932384626433832795 0 -1.5707963267948966192313216916398" />
      <parent link="right_wrist_yaw_link"/>
      <child link="R_hand_base_link"/>
    </joint>

  <link name="R_hand_base_link">
    <inertial>
      <origin
        xyz="-0.0025264 -0.066047 0.0019598"
        rpy="0 0 0" />
      <mass
        value="0.14143" />
      <inertia
        ixx="0.00012281"
        ixy="2.1711E-06"
        ixz="1.7709E-06"
        iyy="8.3832E-05"
        iyz="-1.6551E-06"
        izz="7.6663E-05" />
    </inertial>
    <visual>
      <origin
        xyz="0 0 0"
        rpy="0 0 0" />
      <geometry>
        <mesh filename="../meshes/R_hand_base_link.STL" />
      </geometry>
      <material name="">
        <color rgba="0.1 0.1 0.1 1" />
      </material>
    </visual>
    <collision>
      <origin xyz="0 -0.0136 0" rpy="1.57079 0 0"/>
      <geometry>
        <cylinder length="0.0278" radius="0.028"/>
      </geometry>
    </collision>
    <collision>
      <origin xyz="-0.0032 -0.038 0" rpy="0 0 0"/>
      <geometry>
        <box size="0.0391 0.0202 0.0574"/>
      </geometry>
    </collision>
    <collision>
      <origin xyz="-0.0032 -0.0682 0" rpy="0 0 0"/>
      <geometry>
        <box size="0.0391 0.04 0.0814"/>
      </geometry>
    </collision>
    <collision>
      <origin xyz="0 -0.1081 0" rpy="0 0 0"/>
      <geometry>
        <box size="0.0322 0.04 0.0814"/>
      </geometry>
    </collision>
    <collision>
      <origin xyz="-0.0016 -0.1340 0.0309" rpy="0 0 0"/>
      <geometry>
        <box size="0.0125 0.0111 0.0089"/>
      </geometry>
    </collision>
    <collision>
      <origin xyz="-0.0016 -0.1340 0.0118" rpy="0 0 0"/>
      <geometry>
        <box size="0.0125 0.0111 0.0089"/>
      </geometry>
    </collision>
    <collision>
      <origin xyz="-0.0016 -0.1340 -0.0070" rpy="0 0 0"/>
      <geometry>
        <box size="0.0125 0.0111 0.0089"/>
      </geometry>
    </collision>
    <collision>
      <origin xyz="-0.0016 -0.1340 -0.0262" rpy="0 0 0"/>
      <geometry>
        <box size="0.0125 0.0111 0.0089"/>
      </geometry>
    </collision>
  </link>

  <link name="R_thumb_proximal_base">
    <inertial>
      <origin
        xyz="-0.0048064 0.0009382 -0.00757"
        rpy="0 0 0" />
      <mass
        value="0.0018869" />
      <inertia
        ixx="5.816E-08"
        ixy="1.4539E-08"
        ixz="4.491E-09"
        iyy="7.9161E-08"
        iyz="-1.8727E-09"
        izz="6.7433E-08" />
    </inertial>
    <visual>
      <origin
        xyz="0 0 0"
        rpy="0 0 0" />
      <geometry>
        <mesh filename="../meshes/simplified4x/Link11_R.STL" />
      </geometry>
      <material name="">
        <color rgba="0.1 0.1 0.1 1" />
      </material>
    </visual>
    <collision>
      <origin xyz="0 0 0" rpy="0 0 0"/>
      <geometry>
        <mesh filename="../meshes/collision/right_thumb_proximal_base.obj"/>
      </geometry>
    </collision>
  </link>

  <joint
    name="R_thumb_proximal_yaw_joint"
    type="revolute">
    <origin
      xyz="-0.01696 -0.0691 -0.02045"
      rpy="1.5708 -1.5708 0" />
    <parent
      link="R_hand_base_link" />
    <child
      link="R_thumb_proximal_base" />
    <axis
      xyz="0 0 -1" />
    <limit
      lower="-0.1"
      upper="1.3"
      effort="1"
      velocity="0.5" />
  </joint>

  <link name="R_thumb_proximal">
    <inertial>
      <origin
        xyz="0.021932 0.012785 -0.0080386"
        rpy="0 0 0" />
      <mass
        value="0.0066075" />
      <inertia
        ixx="1.5686E-06"
        ixy="-7.8296E-07"
        ixz="8.9143E-10"
        iyy="1.7353E-06"
        iyz="-1.0191E-09"
        izz="2.786E-06" />
    </inertial>
    <visual>
      <origin
        xyz="0 0 0"
        rpy="0 0 0" />
      <geometry>
        <mesh filename="../meshes/simplified4x/Link12_R.STL" />
      </geometry>
      <material name="">
        <color rgba="0.1 0.1 0.1 1" />
      </material>
    </visual>
    <collision>
      <origin xyz="0 0 0" rpy="0 0 0"/>
      <geometry>
        <mesh filename="../meshes/collision/right_thumb_proximal.obj"/>
      </geometry>
    </collision>
  </link>

  <joint
    name="R_thumb_proximal_pitch_joint"
    type="revolute">
    <origin
      xyz="-0.0088099 0.010892 -0.00925"
      rpy="1.5708 0 2.8587" />
    <parent
      link="R_thumb_proximal_base" />
    <child
      link="R_thumb_proximal" />
    <axis
      xyz="0 0 1" />
    <limit
      lower="0.0"
      upper="0.5"
      effort="1"
      velocity="0.5" />
  </joint>

  <link name="R_thumb_intermediate">
    <inertial>
      <origin
        xyz="0.0095544 -0.0016282 -0.0071997"
        rpy="0 0 0" />
      <mass
        value="0.0037847" />
      <inertia
        ixx="3.6981E-07"
        ixy="-9.8581E-08"
        ixz="-4.7469E-12"
        iyy="3.2394E-07"
        iyz="1.0939E-12"
        izz="4.6531E-07" />
    </inertial>
    <visual>
      <origin
        xyz="0 0 0"
        rpy="0 0 0" />
      <geometry>
        <mesh filename="../meshes/simplified4x/Link13_R.STL" />
      </geometry>
      <material name="">
        <color rgba="0.1 0.1 0.1 1" />
      </material>
    </visual>
    <collision>
      <origin xyz="0 0 0" rpy="0 0 0"/>
      <geometry>
        <mesh filename="../meshes/collision/right_thumb_intermediate.obj"/>
      </geometry>
    </collision>
  </link>

  <joint
    name="R_thumb_intermediate_joint"
    type="revolute">
    <origin
      xyz="0.04407 0.034553 -0.0008"
      rpy="0 0 0" />
    <parent
      link="R_thumb_proximal" />
    <child
      link="R_thumb_intermediate" />
    <axis
      xyz="0 0 1" />
    <limit
      lower="0"
      upper="0.8"
      effort="1"
      velocity="0.5" />
    <mimic 
      joint="R_thumb_proximal_pitch_joint"
      multiplier="1.6"
      offset="0" />
  </joint>

  <link name="R_thumb_distal">
    <inertial>
      <origin
        xyz="0.0092888 0.0049529 -0.0060033"
        rpy="0 0 0" />
      <mass
        value="0.0033441" />
      <inertia
        ixx="1.3632E-07"
        ixy="-5.6788E-08"
        ixz="-9.2764E-11"
        iyy="1.4052E-07"
        iyz="-1.2283E-10"
        izz="2.0026E-07" />
    </inertial>
    <visual>
      <origin
        xyz="0 0 0"
        rpy="0 0 0" />
      <geometry>
        <mesh filename="../meshes/simplified4x/Link14_R.STL" />
      </geometry>
      <material name="">
        <color rgba="0.1 0.1 0.1 1" />
      </material>
    </visual>
    <collision>
      <origin xyz="0 0 0" rpy="0 0 0"/>
      <geometry>
        <mesh filename="../meshes/collision/right_thumb_distal.obj"/>
      </geometry>
    </collision>
  </link>

  <joint
    name="R_thumb_distal_joint"
    type="revolute">
    <origin
      xyz="0.020248 0.010156 -0.0012"
      rpy="0 0 0" />
    <parent
      link="R_thumb_intermediate" />
    <child
      link="R_thumb_distal" />
    <axis
      xyz="0 0 1" />
    <limit
      lower="0"
      upper="1.2"
      effort="1"
      velocity="0.5" />
    <mimic 
      joint="R_thumb_proximal_pitch_joint"
      multiplier="2.4"
      offset="0" />
  </joint>

  <link name="R_index_proximal">
    <inertial>
      <origin
        xyz="0.0012259 0.011942 -0.0060001"
        rpy="0 0 0" />
      <mass
        value="0.0042403" />
      <inertia
        ixx="6.6232E-07"
        ixy="-1.5775E-08"
        ixz="1.8515E-12"
        iyy="2.1146E-07"
        iyz="-5.0828E-12"
        izz="6.9398E-07" />
    </inertial>
    <visual>
      <origin
        xyz="0 0 0"
        rpy="0 0 0" />
      <geometry>
        <mesh filename="../meshes/simplified4x/Link15_R.STL" />
      </geometry>
      <material name="">
        <color rgba="0.1 0.1 0.1 1" />
      </material>
    </visual>
    <collision>
      <origin xyz="0 0 0" rpy="0 0 0"/>
      <geometry>
        <mesh filename="../meshes/collision/right_index_proximal.obj"/>
      </geometry>
    </collision>
  </link>

  <joint
    name="R_index_proximal_joint"
    type="revolute">
    <origin
      xyz="0.00028533 -0.13653 -0.032268"
      rpy="-3.1067 0 0" />
    <parent
      link="R_hand_base_link" />
    <child
      link="R_index_proximal" />
    <axis
      xyz="0 0 1" />
    <limit
      lower="0"
      upper="1.7"
      effort="1"
      velocity="0.5" />
  </joint>

  <link name="R_index_intermediate">
    <inertial>
      <origin
        xyz="0.0019697 0.019589 -0.005"
        rpy="0 0 0" />
      <mass
        value="0.0045683" />
      <inertia
        ixx="7.6111E-07"
        ixy="8.7637E-08"
        ixz="-3.7751E-13"
        iyy="9.6076E-08"
        iyz="9.9444E-13"
        izz="7.8179E-07" />
    </inertial>
    <visual>
      <origin
        xyz="0 0 0"
        rpy="0 0 0" />
      <geometry>
        <mesh filename="../meshes/simplified4x/Link16_R.STL" />
      </geometry>
      <material name="">
        <color rgba="0.1 0.1 0.1 1" />
      </material>
    </visual>
    <collision>
      <origin xyz="0 0 0" rpy="0 0 0"/>
      <geometry>
        <mesh filename="../meshes/collision/right_index_intermediate.obj"/>
      </geometry>
    </collision>
  </link>

  <joint
    name="R_index_intermediate_joint"
    type="revolute">
    <origin
      xyz="-0.0026138 0.032026 -0.001"
      rpy="0 0 0" />
    <parent
      link="R_index_proximal" />
    <child
      link="R_index_intermediate" />
    <axis
      xyz="0 0 1" />
    <limit
      lower="0"
      upper="1.7"
      effort="1"
      velocity="0.5" />
    <mimic 
      joint="R_index_proximal_joint"
      multiplier="1"
      offset="0" />
  </joint>

  <link name="R_middle_proximal">
    <inertial>
      <origin
        xyz="0.001297 0.011934 -0.0060001"
        rpy="0 0 0" />
      <mass
        value="0.0042403" />
      <inertia
        ixx="6.6211E-07"
        ixy="-1.8461E-08"
        ixz="1.8002E-12"
        iyy="2.1167E-07"
        iyz="-6.6808E-12"
        izz="6.9397E-07" />
    </inertial>
    <visual>
      <origin
        xyz="0 0 0"
        rpy="0 0 0" />
      <geometry>
        <mesh filename="../meshes/simplified4x/Link17_R.STL" />
      </geometry>
      <material name="">
        <color rgba="0.1 0.1 0.1 1" />
      </material>
    </visual>
    <collision>
      <origin xyz="0 0 0" rpy="0 0 0"/>
      <geometry>
        <mesh filename="../meshes/collision/right_index_proximal.obj"/>
      </geometry>
    </collision>
  </link>

  <joint
    name="R_middle_proximal_joint"
    type="revolute">
    <origin
      xyz="0.00028533 -0.1371 -0.01295"
      rpy="-3.1416 0 0" />
    <parent
      link="R_hand_base_link" />
    <child
      link="R_middle_proximal" />
    <axis
      xyz="0 0 1" />
    <limit
      lower="0"
      upper="1.7"
      effort="1"
      velocity="0.5" />
  </joint>

  <link name="R_middle_intermediate">
    <inertial>
      <origin
        xyz="0.001921 0.020796 -0.005"
        rpy="0 0 0" />
      <mass
        value="0.0050396" />
      <inertia
        ixx="9.5822E-07"
        ixy="1.1425E-07"
        ixz="-2.4791E-12"
        iyy="1.0646E-07"
        iyz="5.9173E-12"
        izz="9.8384E-07" />
    </inertial>
    <visual>
      <origin
        xyz="0 0 0"
        rpy="0 0 0" />
      <geometry>
        <mesh filename="../meshes/simplified4x/Link18_R.STL" />
      </geometry>
      <material name="">
        <color rgba="0.1 0.1 0.1 1" />
      </material>
    </visual>
    <collision>
      <origin xyz="0 0 0" rpy="0 0 0"/>
      <geometry>
        <mesh filename="../meshes/collision/right_middle_intermediate.obj"/>
      </geometry>
    </collision>
  </link>

  <joint
    name="R_middle_intermediate_joint"
    type="revolute">
    <origin
      xyz="-0.0024229 0.032041 -0.001"
      rpy="0 0 0" />
    <parent
      link="R_middle_proximal" />
    <child
      link="R_middle_intermediate" />
    <axis
      xyz="0 0 1" />
    <limit
      lower="0"
      upper="1.7"
      effort="1"
      velocity="0.5" />
    <mimic 
      joint="R_middle_proximal_joint"
      multiplier="1"
      offset="0" />
  </joint>

  <link name="R_ring_proximal">
    <inertial>
      <origin
        xyz="0.001297 0.011934 -0.0060002"
        rpy="0 0 0" />
      <mass
        value="0.0042403" />
      <inertia
        ixx="6.6211E-07"
        ixy="-1.8461E-08"
        ixz="1.5793E-12"
        iyy="2.1167E-07"
        iyz="-6.6868E-12"
        izz="6.9397E-07" />
    </inertial>
    <visual>
      <origin
        xyz="0 0 0"
        rpy="0 0 0" />
      <geometry>
        <mesh filename="../meshes/simplified4x/Link19_R.STL" />
      </geometry>
      <material name="">
        <color rgba="0.1 0.1 0.1 1" />
      </material>
    </visual>
    <collision>
      <origin xyz="0 0 0" rpy="0 0 0"/>
      <geometry>
        <mesh filename="../meshes/collision/right_index_proximal.obj"/>
      </geometry>
    </collision>
  </link>

  <joint
    name="R_ring_proximal_joint"
    type="revolute">
    <origin
      xyz="0.00028533 -0.13691 0.0062872"
      rpy="3.0892 0 0" />
    <parent
      link="R_hand_base_link" />
    <child
      link="R_ring_proximal" />
    <axis
      xyz="0 0 1" />
    <limit
      lower="0"
      upper="1.7"
      effort="1"
      velocity="0.5" />
  </joint>

  <link name="R_ring_intermediate">
    <inertial>
      <origin
        xyz="0.0021753 0.019567 -0.005"
        rpy="0 0 0" />
      <mass
        value="0.0045683" />
      <inertia
        ixx="7.6286E-07"
        ixy="8.0635E-08"
        ixz="-6.1562E-13"
        iyy="9.431E-08"
        iyz="5.8619E-13"
        izz="7.8177E-07" />
    </inertial>
    <visual>
      <origin
        xyz="0 0 0"
        rpy="0 0 0" />
      <geometry>
        <mesh filename="../meshes/simplified4x/Link20_R.STL" />
      </geometry>
      <material name="">
        <color rgba="0.1 0.1 0.1 1" />
      </material>
    </visual>
    <collision>
      <origin xyz="0 0 0" rpy="0 0 0"/>
      <geometry>
        <mesh filename="../meshes/collision/right_index_intermediate.obj"/>
      </geometry>
    </collision>
  </link>

  <joint
    name="R_ring_intermediate_joint"
    type="revolute">
    <origin
      xyz="-0.0024229 0.032041 -0.001"
      rpy="0 0 0" />
    <parent
      link="R_ring_proximal" />
    <child
      link="R_ring_intermediate" />
    <axis
      xyz="0 0 1" />
    <limit
      lower="0"
      upper="1.7"
      effort="1"
      velocity="0.5" />
    <mimic 
      joint="R_ring_proximal_joint"
      multiplier="1"
      offset="0" />
  </joint>

  <link name="R_pinky_proximal">
    <inertial>
      <origin
        xyz="0.001297 0.011934 -0.0060001"
        rpy="0 0 0" />
      <mass
        value="0.0042403" />
      <inertia
        ixx="6.6211E-07"
        ixy="-1.8461E-08"
        ixz="1.6907E-12"
        iyy="2.1167E-07"
        iyz="-6.9334E-12"
        izz="6.9397E-07" />
    </inertial>
    <visual>
      <origin
        xyz="0 0 0"
        rpy="0 0 0" />
      <geometry>
        <mesh filename="../meshes/simplified4x/Link21_R.STL" />
      </geometry>
      <material name="">
        <color rgba="0.1 0.1 0.1 1" />
      </material>
    </visual>
    <collision>
      <origin xyz="0 0 0" rpy="0 0 0"/>
      <geometry>
        <mesh filename="../meshes/collision/right_index_proximal.obj"/>
      </geometry>
    </collision>
  </link>

  <joint
    name="R_pinky_proximal_joint"
    type="revolute">
    <origin
      xyz="0.00028533 -0.13571 0.025488"
      rpy="3.0369 0 0" />
    <parent
      link="R_hand_base_link" />
    <child
      link="R_pinky_proximal" />
    <axis
      xyz="0 0 1" />
    <limit
      lower="0"
      upper="1.7"
      effort="1"
      velocity="0.5" />
  </joint>

  <link name="R_pinky_intermediate">
    <inertial>
      <origin
        xyz="0.0024748 0.016203 -0.0050031"
        rpy="0 0 0" />
      <mass
        value="0.0035996" />
      <inertia
        ixx="4.3913E-07"
        ixy="4.1418E-08"
        ixz="3.7168E-11"
        iyy="7.0247E-08"
        iyz="5.8613E-11"
        izz="4.4867E-07" />
    </inertial>
    <visual>
      <origin
        xyz="0 0 0"
        rpy="0 0 0" />
      <geometry>
        <mesh filename="../meshes/simplified4x/Link22_R.STL" />
      </geometry>
      <material name="">
        <color rgba="0.1 0.1 0.1 1" />
      </material>
    </visual>
    <collision>
      <origin xyz="0 0 0" rpy="0 0 0"/>
      <geometry>
        <mesh filename="../meshes/collision/right_pinky_intermediate.obj"/>
      </geometry>
    </collision>
  </link>

  <joint
    name="R_pinky_intermediate_joint"
    type="revolute">
    <origin
      xyz="-0.0024229 0.032041 -0.001"
      rpy="0 0 0" />
    <parent
      link="R_pinky_proximal" />
    <child
      link="R_pinky_intermediate" />
    <axis
      xyz="0 0 1" />
    <limit
      lower="0"
      upper="1.7"
      effort="1"
      velocity="0.5" />
    <mimic 
      joint="R_pinky_proximal_joint"
      multiplier="1"
      offset="0" />
  </joint>
  <link
    name="logo_link">
    <visual>
      <origin
        xyz="0 0 0"
        rpy="0 0 0" />
      <geometry>
        <mesh
          filename="../meshes/logo_link.STL" />
      </geometry>
      <material
        name="">
        <color
          rgba="1 1 1 1" />
      </material>
    </visual>

  </link>
  <joint
    name="logo_joint"
    type="fixed">
    <origin
      xyz="0 0 0"
      rpy="0 0 0" />
    <parent
      link="torso_link" />
    <child
      link="logo_link" />
    <axis
      xyz="0 0 0" />
  </joint>

  <link name="L_thumb_tip"/>
  <joint name="L_thumb_tip_joint" type="fixed">
    <parent link="L_thumb_distal"/>
    <child link="L_thumb_tip"/>
    <origin rpy="0 0 0" xyz="0.015 -0.013 -0.004"/>
  </joint>

  <link name="L_index_tip"/>
  <joint name="L_index_tip_joint" type="fixed">
    <parent link="L_index_intermediate"/>
    <child link="L_index_tip"/>
    <origin rpy="0 0 0" xyz="-0.005 -0.04 -0.004"/>
  </joint>

  <link name="L_middle_tip"/>
  <joint name="L_middle_tip_joint" type="fixed">
    <parent link="L_middle_intermediate"/>
    <child link="L_middle_tip"/>
    <origin rpy="0 0 0" xyz="-0.005 -0.045 -0.004"/>
  </joint>

  <link name="L_ring_tip"/>
  <joint name="L_ring_tip_joint" type="fixed">
    <parent link="L_ring_intermediate"/>
    <child link="L_ring_tip"/>
    <origin rpy="0 0 0" xyz="-0.002 -0.04 -0.004"/>
  </joint>

  <link name="L_pinky_tip"/>
  <joint name="L_pinky_tip_joint" type="fixed">
    <parent link="L_pinky_intermediate"/>
    <child link="L_pinky_tip"/>
    <origin rpy="0 0 0" xyz="-0.002 -0.032 -0.004"/>
  </joint>

  <link name="R_thumb_tip"/>
  <joint name="R_thumb_tip_joint" type="fixed">
    <parent link="R_thumb_distal"/>
    <child link="R_thumb_tip"/>
    <origin rpy="0 0 0" xyz="0.015 0.013 -0.004"/>
  </joint>

  <link name="R_index_tip"/>
  <joint name="R_index_tip_joint" type="fixed">
    <parent link="R_index_intermediate"/>
    <child link="R_index_tip"/>
    <origin rpy="0 0 0" xyz="-0.005 0.04 -0.004"/>
  </joint>

  <link name="R_middle_tip"/>
  <joint name="R_middle_tip_joint" type="fixed">
    <parent link="R_middle_intermediate"/>
    <child link="R_middle_tip"/>
    <origin rpy="0 0 0" xyz="-0.005 0.045 -0.004"/>
  </joint>

  <link name="R_ring_tip"/>
  <joint name="R_ring_tip_joint" type="fixed">
    <parent link="R_ring_intermediate"/>
    <child link="R_ring_tip"/>
    <origin rpy="0 0 0" xyz="-0.002 0.04 -0.004"/>
  </joint>

  <link name="R_pinky_tip"/>
  <joint name="R_pinky_tip_joint" type="fixed">
    <parent link="R_pinky_intermediate"/>
    <child link="R_pinky_tip"/>
    <origin rpy="0 0 0" xyz="-0.002 0.032 -0.004"/>
  </joint>
</robot>
